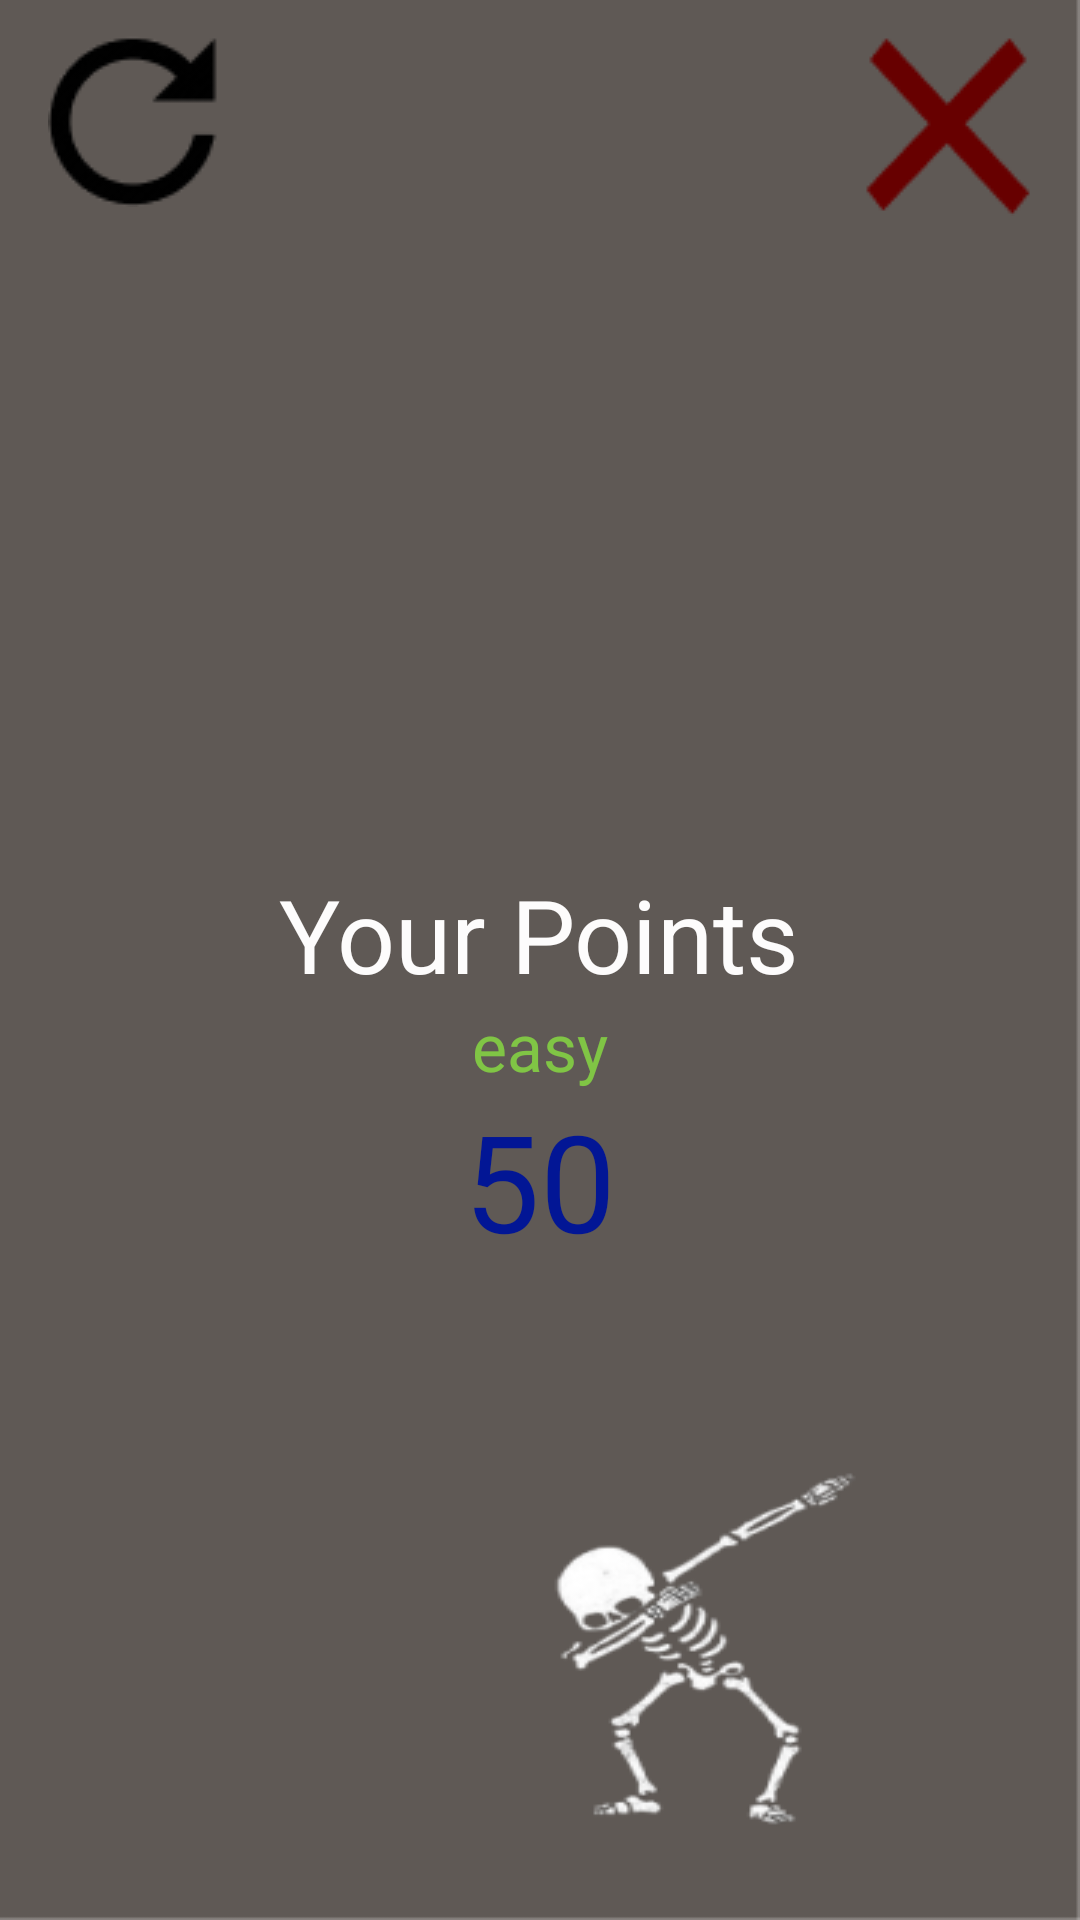

Where to tap for icons on this 1080×1920 app screen, as [x,y]:
close game: [948,126]
restart game: [132,121]
